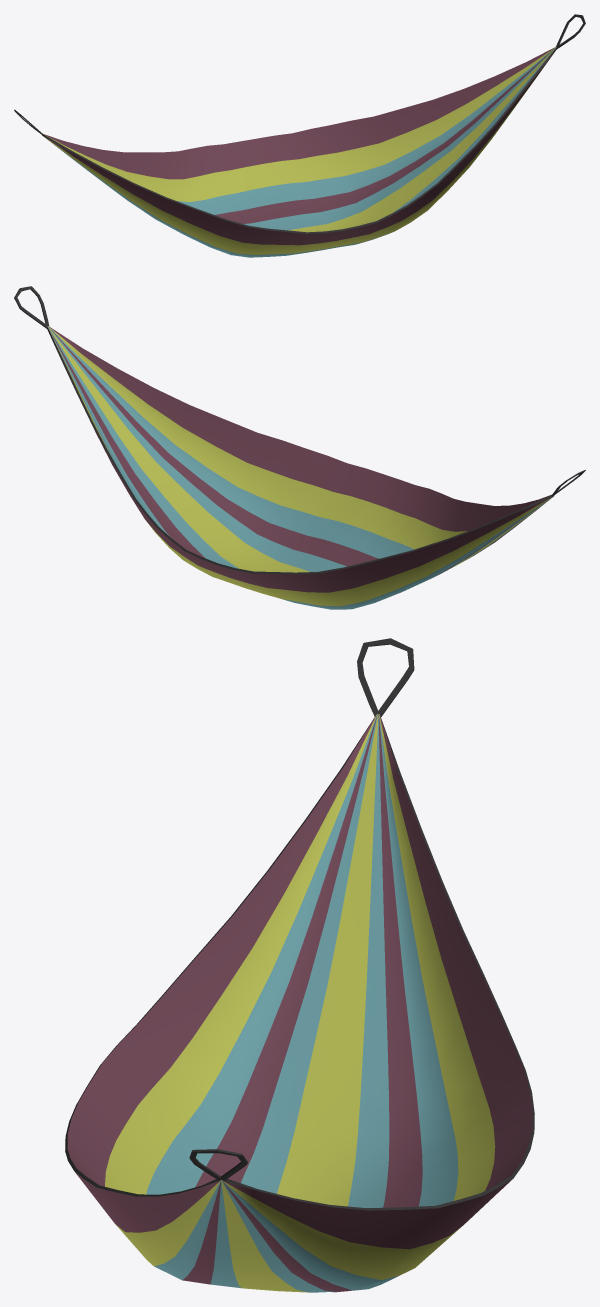
Rendered from Hammock_90.glb.
3 views of the same model, one above another, from view 1: azimuth 30°, elevation 25°; view 2: azimuth 150°, elevation 25°; view 3: azimuth 270°, elevation 25° (orthographic). The views are drawn at different scales.
Visible parts, largest first — view 1: Plane004; view 2: Plane004; view 3: Plane004, Box003.
Boxes of the visible parts, x1,y1,x2,y2 form: Plane004: (42,46,556,257); Plane004: (47,326,554,609); Plane004: (65,714,534,1292); Box003: (357,638,414,716).
Bounding box in the file's own units: 553053 × 178072 × 214367.
